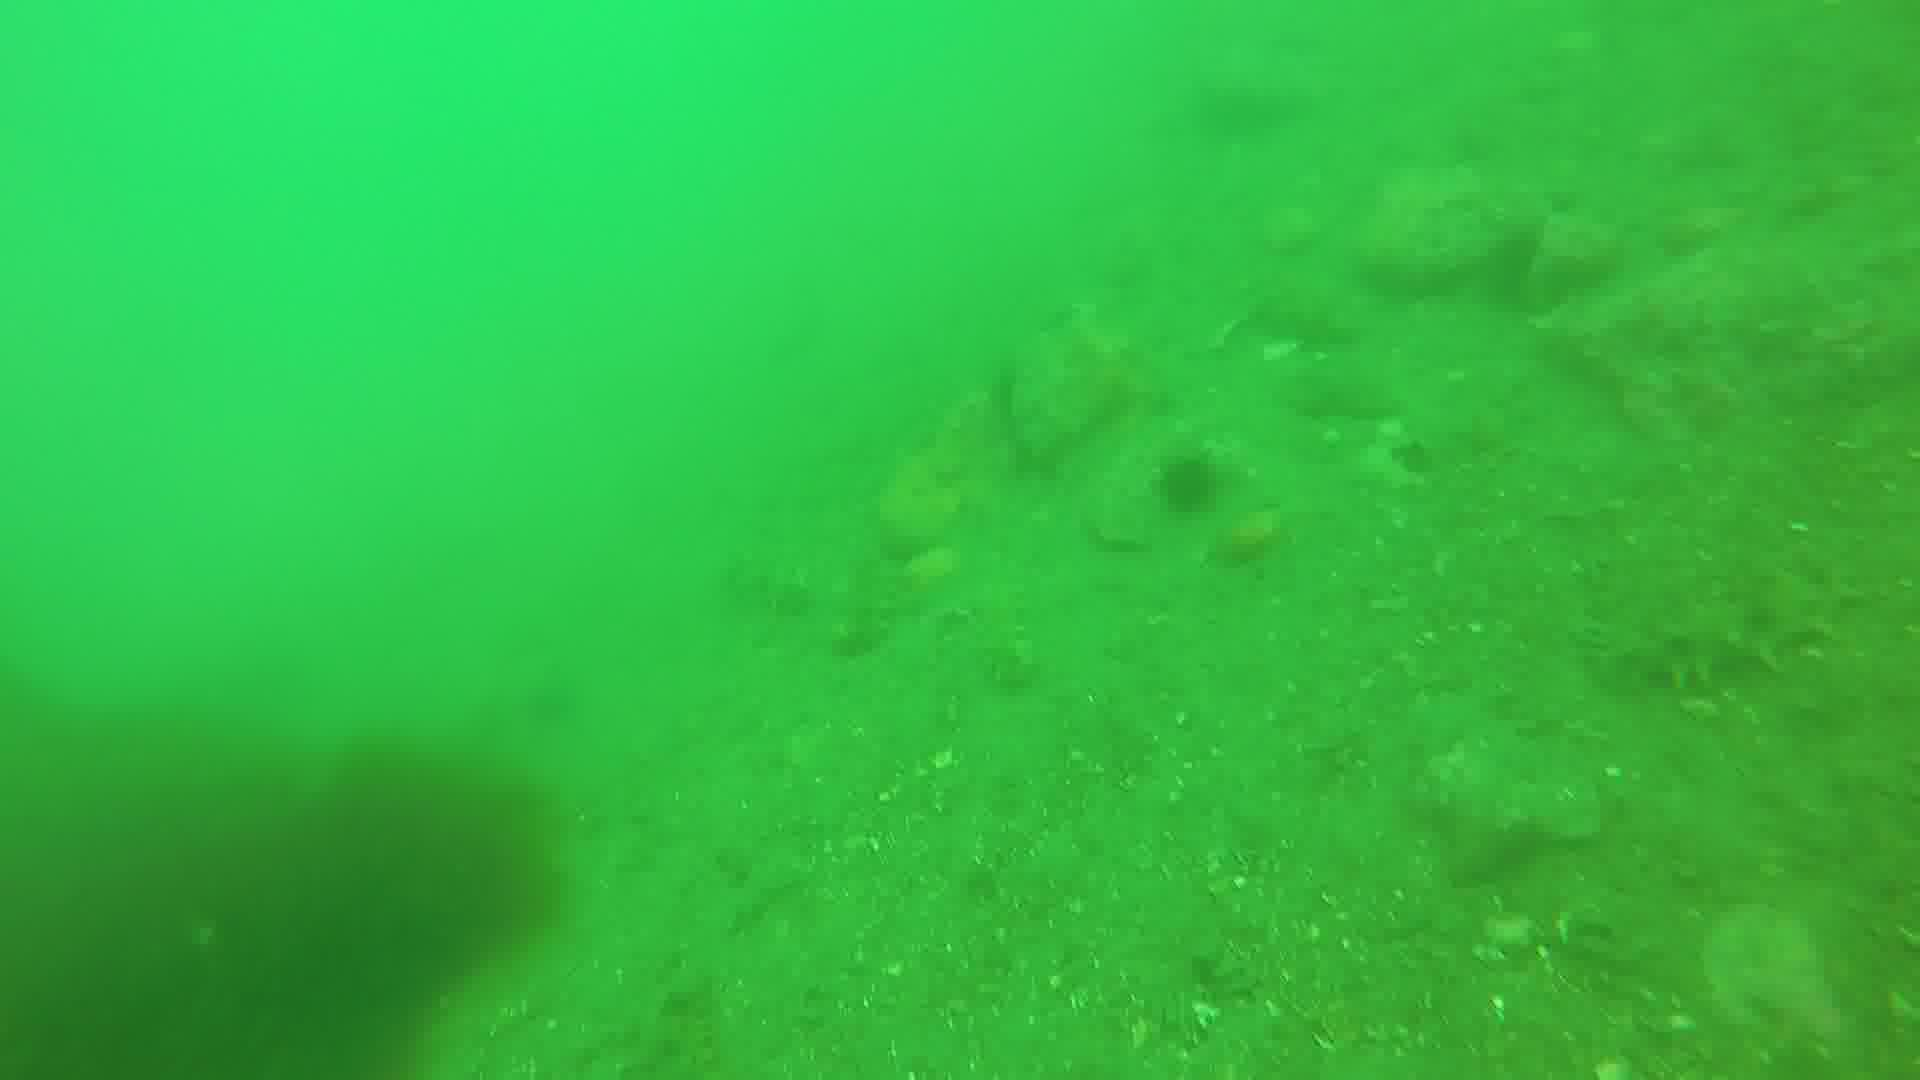echinus: (1156, 447, 1226, 513)
holothurian: (1607, 560, 1844, 698)
